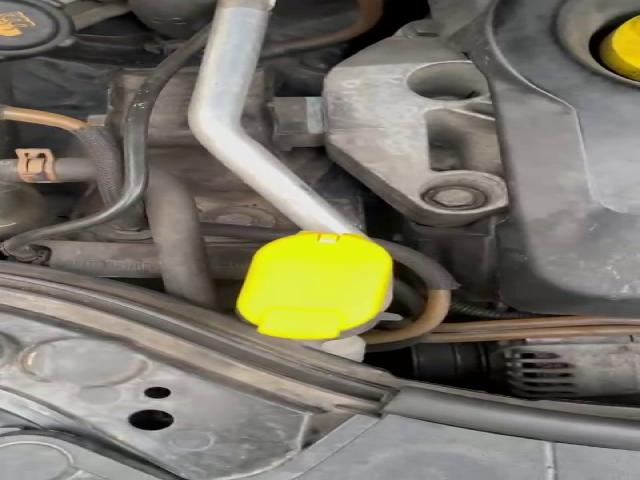antifreeze_tank: (0, 0, 75, 58)
